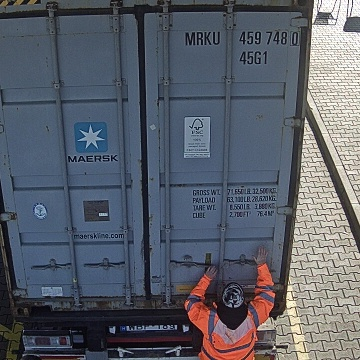serial_id: (184, 31, 298, 46)
